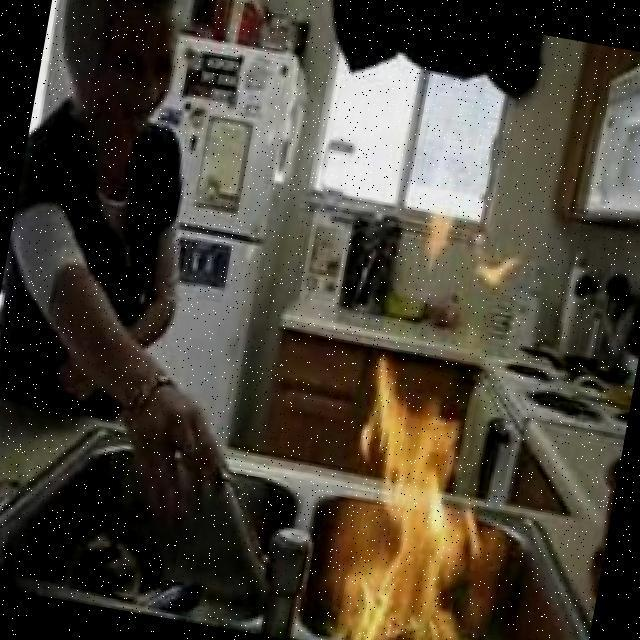Fire: (311, 349, 513, 640), (401, 200, 533, 302)
